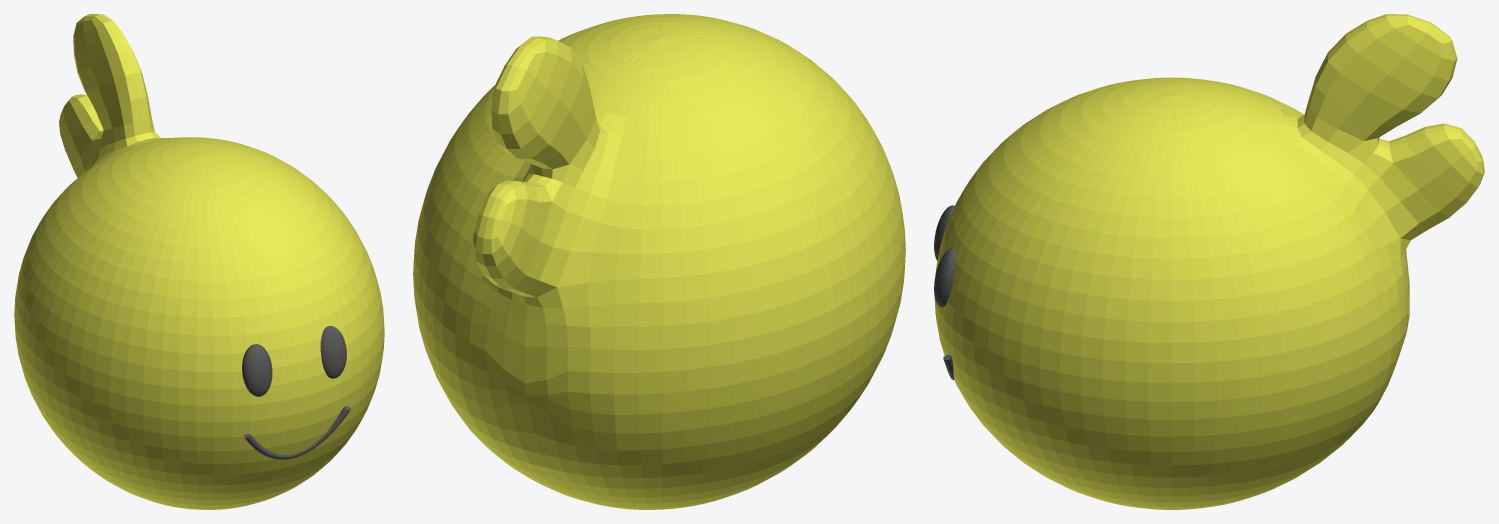
File: wkwk.glb
3 renders of one model, left to right at view 1: azimuth 30°, elevation 25°; view 2: azimuth 150°, elevation 25°; view 3: azimuth 270°, elevation 25°, orthographic. The views are drawn at different scales.
Parts seen in each view (by area): view 1: 球, 球.001, NURBSカーブ; view 2: 球; view 3: 球, 球.001.
Boxes of the visible parts, x1,y1,x2,y2 form: 球: (14, 14, 384, 509); 球.001: (242, 326, 346, 396); NURBSカーブ: (243, 406, 350, 459); 球: (413, 14, 905, 509); 球: (934, 14, 1484, 509); 球.001: (934, 205, 956, 307).
Bounding box in the file's own units: 2.67 × 3.31 × 3.47.
